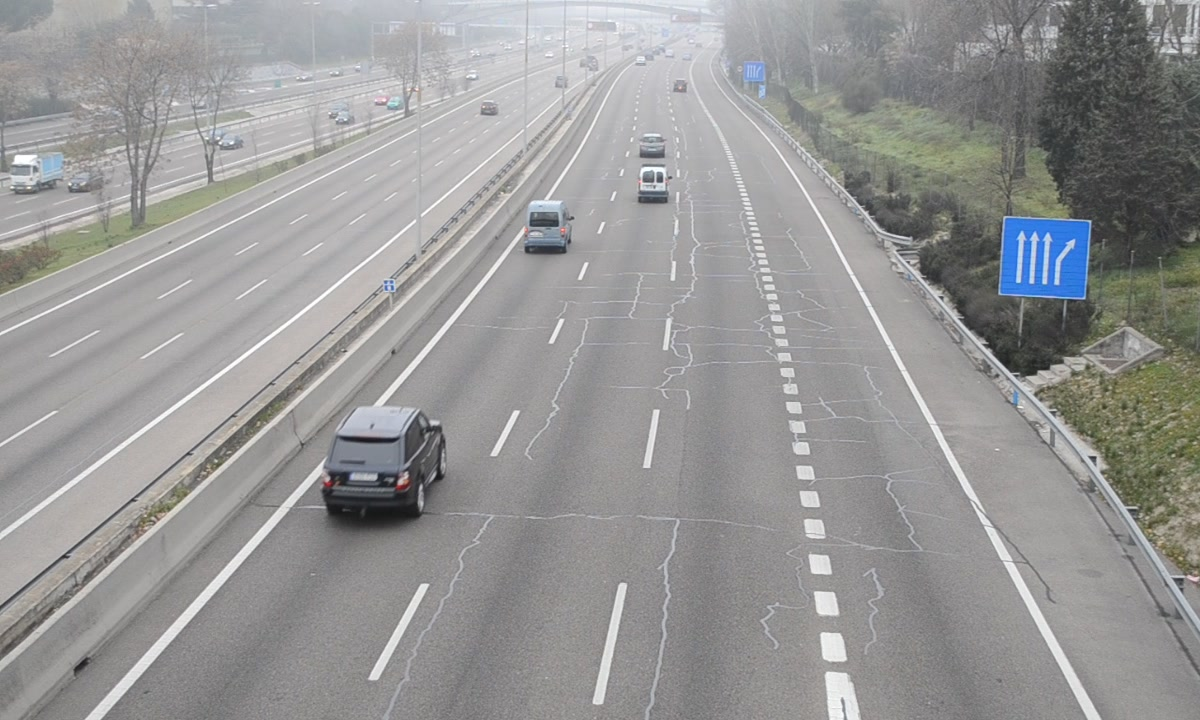car: (322, 408, 447, 508), (636, 132, 666, 159)
van: (523, 199, 568, 249), (638, 164, 669, 202)
